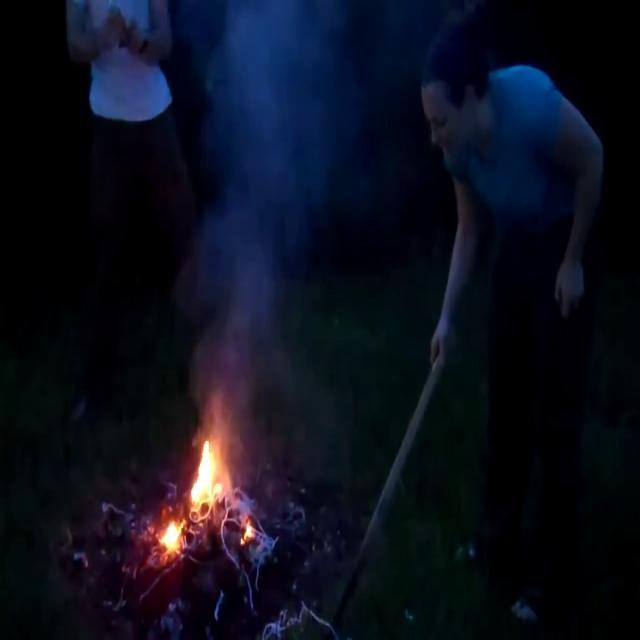Fire: (185, 427, 229, 522), (152, 509, 186, 562), (238, 513, 258, 552)
Smoke: (180, 0, 338, 408)
